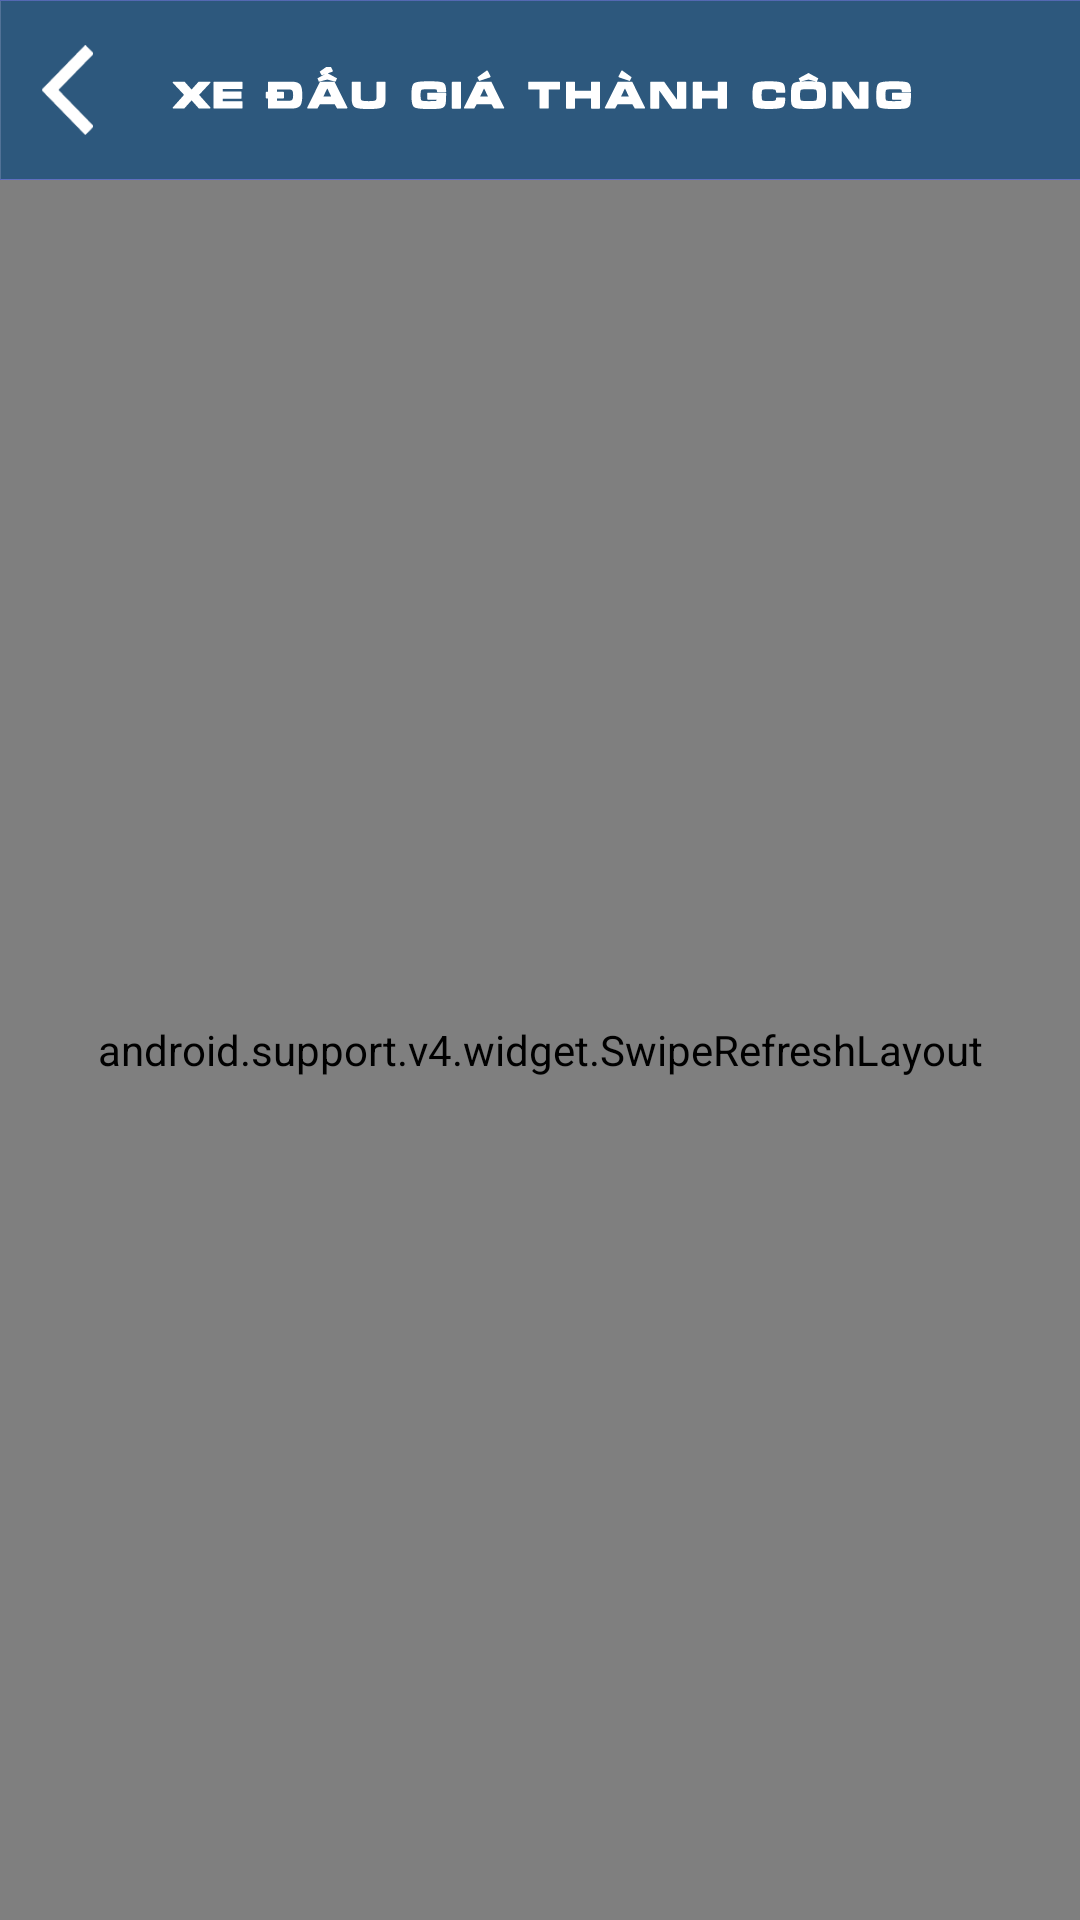

Named icons in this screenshot (1080 × 1920) and their centers, (x=x, y=y):
back: (x=90, y=90)
